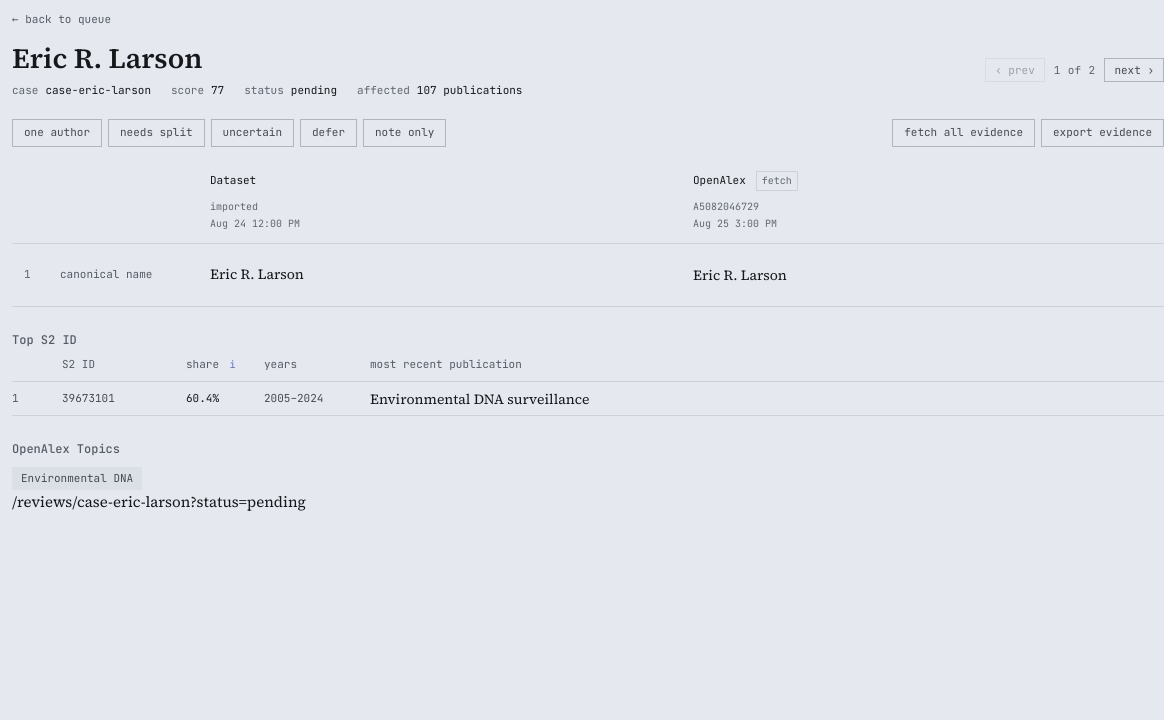
Test: reloads the case after fetching all evidence
Expected: the heading "Eric R. Larson" is shown, [12,39,202,77]
Click the button "fetch all evidence".
click(964, 133)  # box [892,119,1035,147]
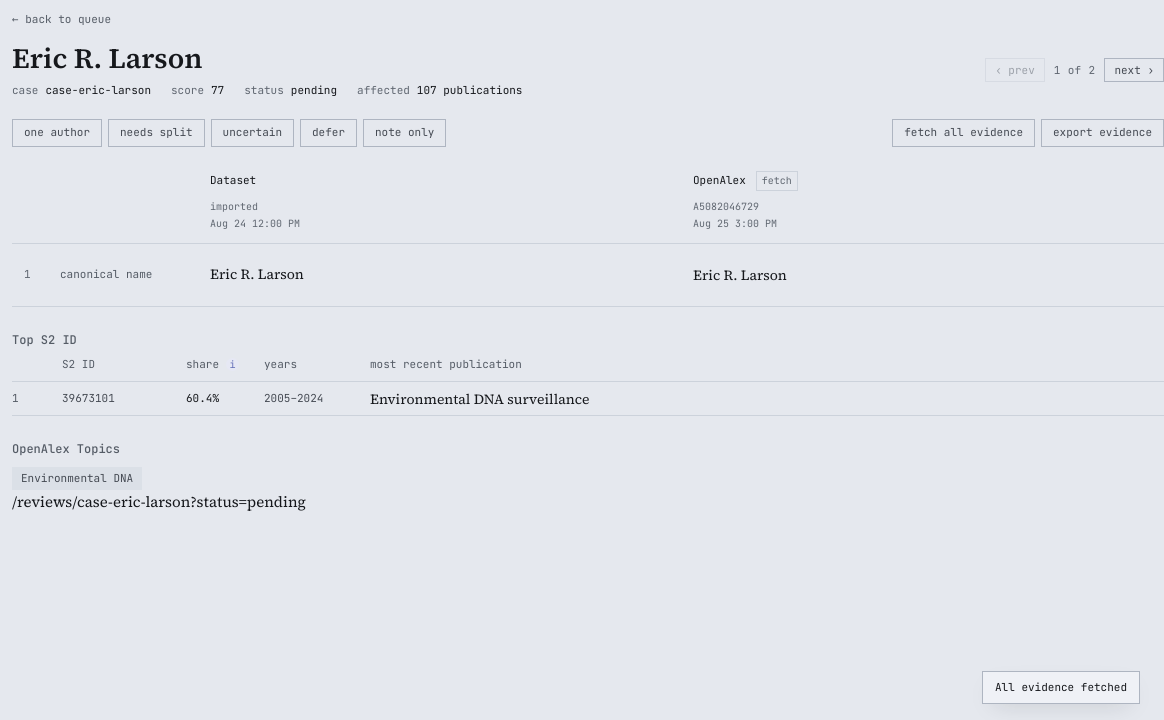
Result: the text "All evidence fetched" is shown at [982,671,1140,704]
